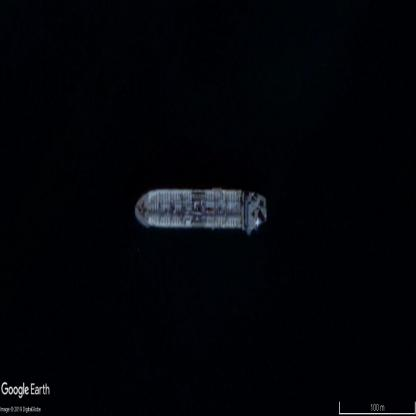ship: (134, 186, 267, 234)
